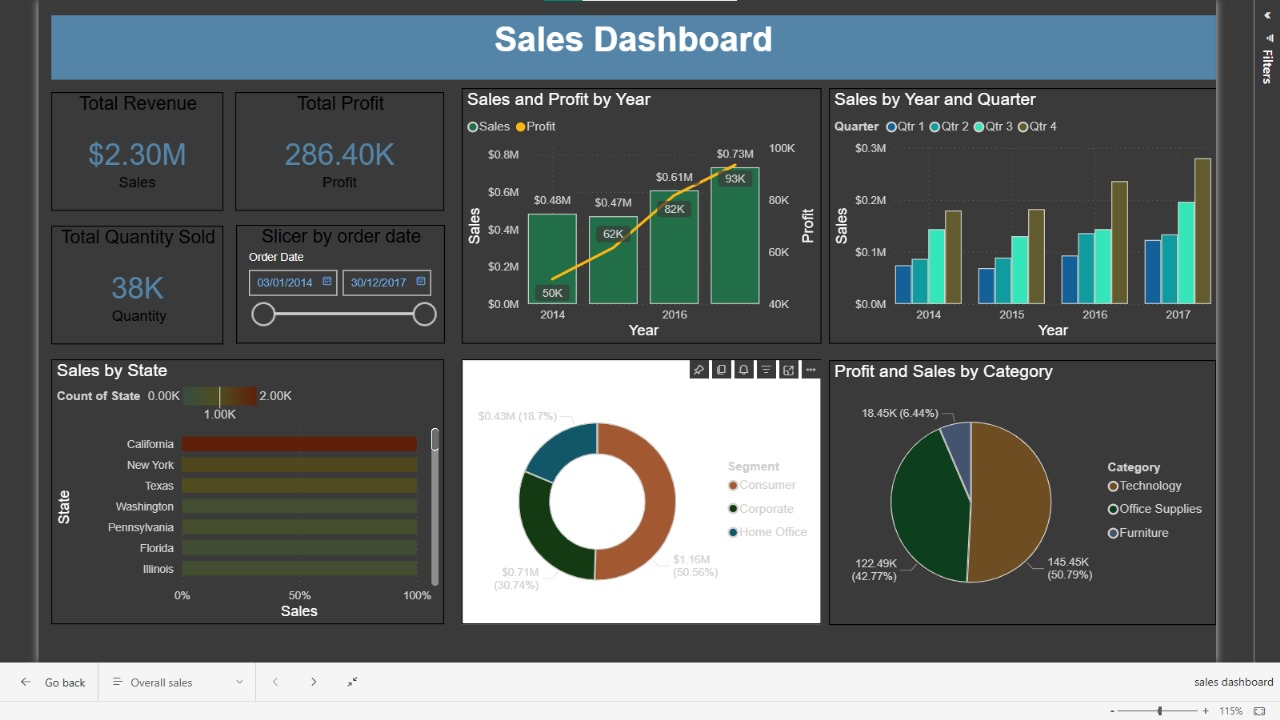

The page's visual inventory and layout, read from the dashboard file:
{"tool":"powerbi","page":{"name":"Overall sales","canvas":[1280,720],"ordinal":0},"visuals":[{"type":"textbox","box":[14.1,16.7,1265.9,70],"z":0},{"type":"card","title":"Total Revenue","fields":{"Values":["Sum(Orders.Sales)"]},"box":[13.7,100.3,186.8,128.7],"z":1000},{"type":"card","title":"Total Quantity Sold","fields":{"Values":["Sum(Orders.Quantity)"]},"box":[13.7,244.9,186.8,128.7],"z":2000},{"type":"card","title":"Total Profit","fields":{"Values":["Sum(Orders.Profit)"]},"box":[214.2,100.3,226.7,128.7],"z":3000},{"type":"lineStackedColumnComboChart","fields":{"Category":["Orders.Order Date.Variation.Date Hierarchy.Year","Orders.Order Date.Variation.Date Hierarchy.Quarter","Orders.Order Date.Variation.Date Hierarchy.Month","Orders.Order Date.Variation.Date Hierarchy.Day"],"Y":["Sum(Orders.Sales)"],"Y2":["Sum(Orders.Profit)"]},"box":[460.3,95.7,390.8,278],"z":4000},{"type":"clusteredColumnChart","fields":{"Category":["Orders.Year"],"Series":["Orders.Quarter"],"Y":["Sum(Orders.Sales)"]},"box":[859,95.7,421.5,278],"z":5000},{"type":"hundredPercentStackedBarChart","title":" Sales by State","fields":{"Category":["Orders.State"],"Y":["Sum(Orders.Sales)"]},"box":[13.7,390.8,427.2,288.2],"z":6000},{"type":"donutChart","fields":{"Category":["Orders.Segment"],"Y":["Sum(Orders.Sales)"]},"box":[460.3,390.8,390.8,288.2],"z":7000},{"type":"pieChart","fields":{"Y":["Sum(Orders.Profit)"],"Category":["Orders.Category"]},"box":[859,391,421,288],"z":8000},{"type":"slicer","title":"Slicer by order date","fields":{"Values":["Orders.Order Date"]},"box":[214.4,244.4,226.7,128.9],"z":9000}]}

Visuals, with their boxes on the page's 1280x720 design canvas (x1, y1, x2, y2). These are canvas units, not pixel positions in the 1280x720 screenshot, which may show the page scaled, cropped or inside an application window:
textbox: (left=14, top=17, right=1280, bottom=87)
"Total Revenue" card: (left=14, top=100, right=200, bottom=229)
"Total Quantity Sold" card: (left=14, top=245, right=200, bottom=374)
"Total Profit" card: (left=214, top=100, right=441, bottom=229)
lineStackedColumnComboChart - Orders.Order Date.Variation.Date Hierarchy.Year x Orders.Order Date.Variation.Date Hierarchy.Quarter: (left=460, top=96, right=851, bottom=374)
clusteredColumnChart - Orders.Year x Orders.Quarter: (left=859, top=96, right=1280, bottom=374)
" Sales by State" hundredPercentStackedBarChart: (left=14, top=391, right=441, bottom=679)
donutChart - Orders.Segment x Sum(Orders.Sales): (left=460, top=391, right=851, bottom=679)
pieChart - Sum(Orders.Profit) x Orders.Category: (left=859, top=391, right=1280, bottom=679)
"Slicer by order date" slicer: (left=214, top=244, right=441, bottom=373)
